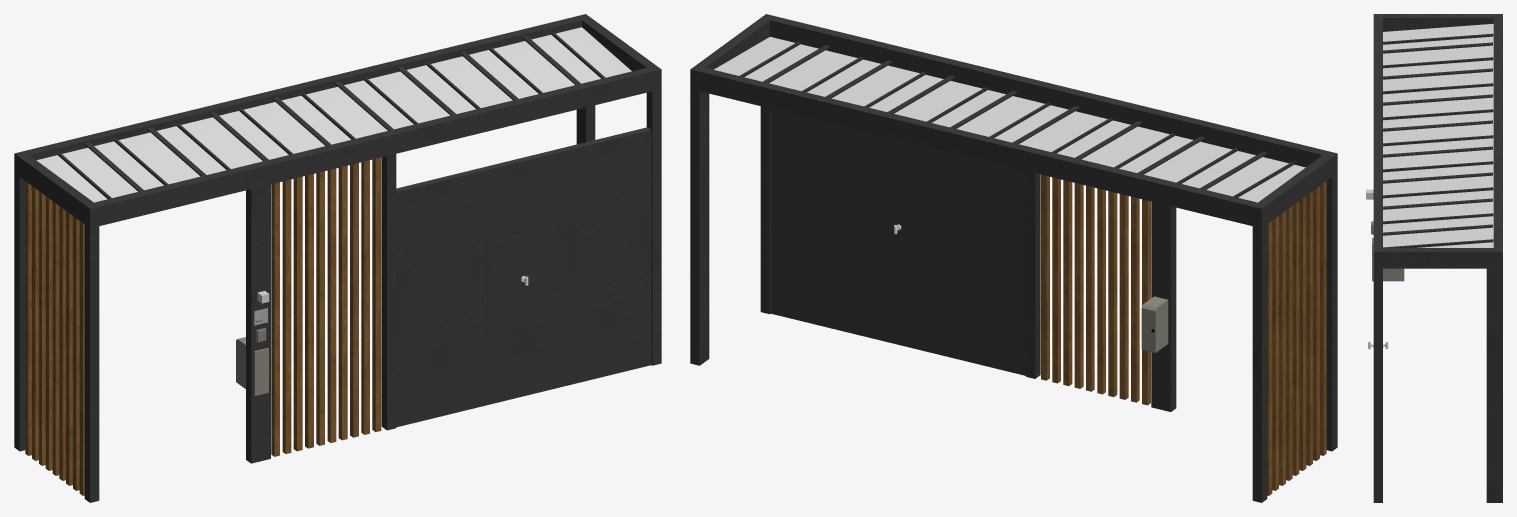
The model's file is hy18-e_matblack.fbx.
3 views of the same model, side by side, from view 1: azimuth 30°, elevation 25°; view 2: azimuth 150°, elevation 25°; view 3: azimuth 270°, elevation 25° (orthographic). The views are drawn at different scales.
Visible parts, largest first — view 1: hy18-e_matblack; view 2: hy18-e_matblack; view 3: hy18-e_matblack.
Boxes of the visible parts, x1=… form: hy18-e_matblack: x1=14, y1=14, x2=661, y2=502; hy18-e_matblack: x1=690, y1=14, x2=1337, y2=502; hy18-e_matblack: x1=1366, y1=14, x2=1502, y2=502.
Bounding box in the file's own units: 610 × 300 × 148.
21 materials, 10 textured.
